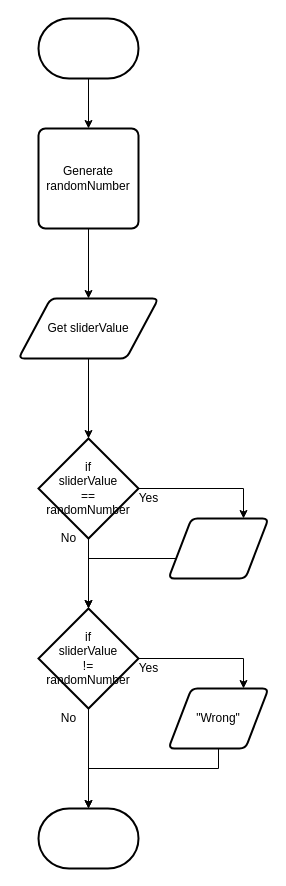
The diagram is 286 pixels wide and 886 high, and some of its shapes have lost their labels. Here are the shapes that lost their labels. From the top down, the centre of each, then its label:
(x=88, y=48): Start
(x=218, y=548): "Correct"
(x=88, y=838): Stop
